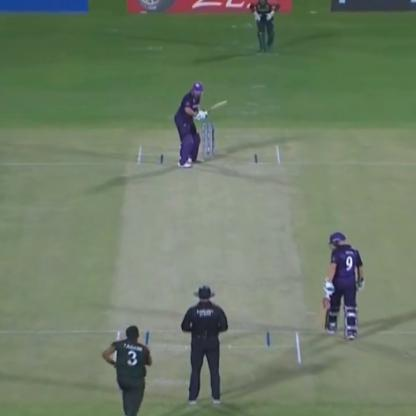bat: (314, 288, 332, 339), (204, 98, 237, 114)
pitch: (103, 141, 311, 384)
